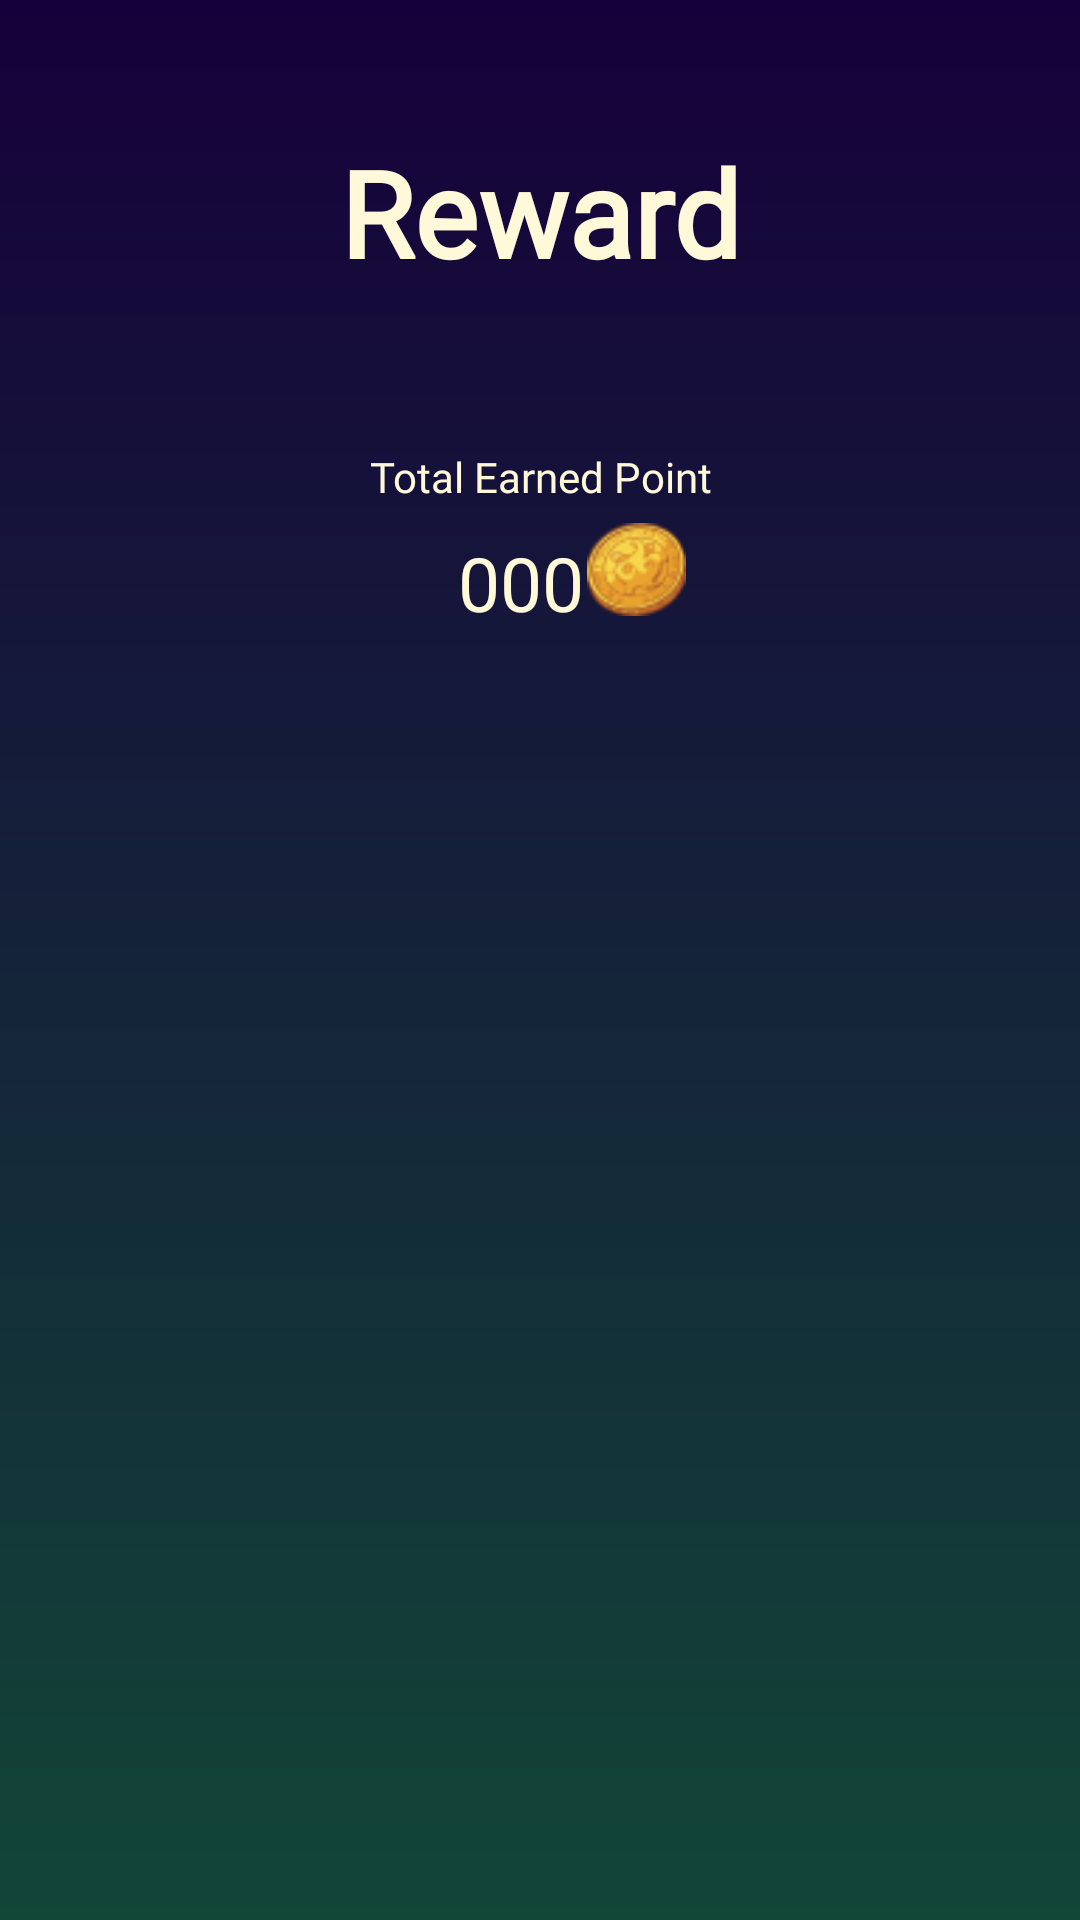

Icons on this 1080*1920 Android screen, each with the point to tap as point (x, y):
coin: point (636, 569)
